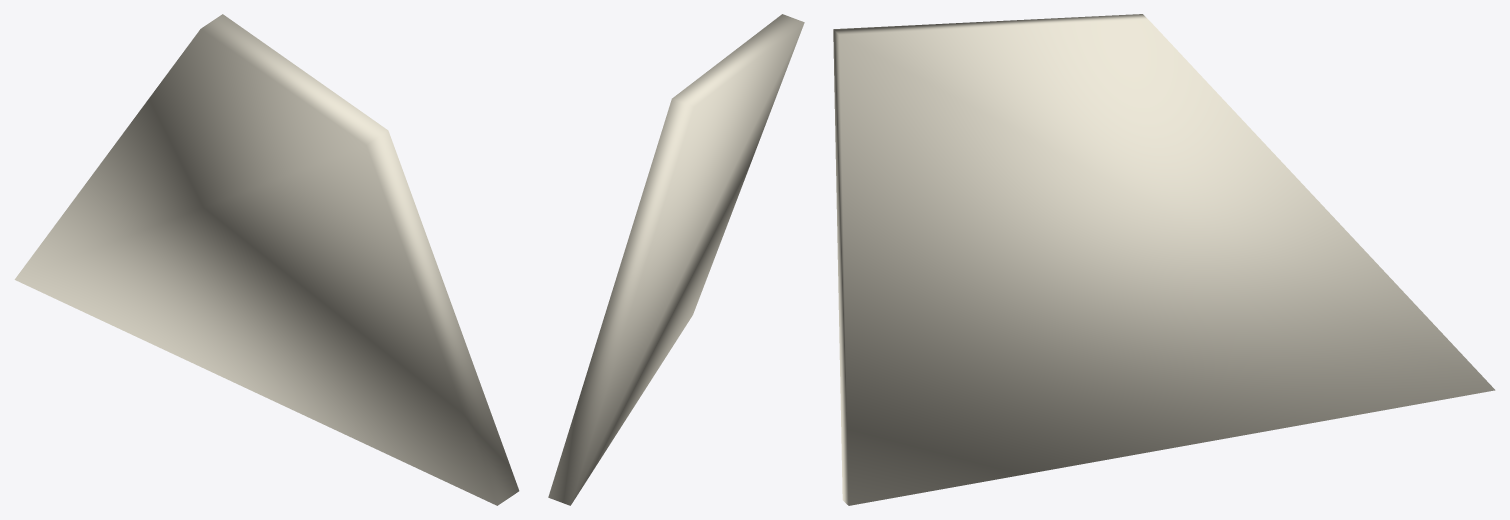
3 renders of one model, left to right at view 1: azimuth 30°, elevation 25°; view 2: azimuth 150°, elevation 25°; view 3: azimuth 270°, elevation 25°, orthographic. The views are drawn at different scales.
Parts seen in each view (by area): view 1: ZA_5e9e78413cd7d621; view 2: ZA_5e9e78413cd7d621; view 3: ZA_5e9e78413cd7d621.
Boxes of the visible parts, x1,y1,x2,y2 form: ZA_5e9e78413cd7d621: [14, 14, 519, 505]; ZA_5e9e78413cd7d621: [548, 14, 804, 505]; ZA_5e9e78413cd7d621: [833, 14, 1495, 505].
Bounding box in the file's own units: 0.00359 × 0.00746 × 0.0107.
